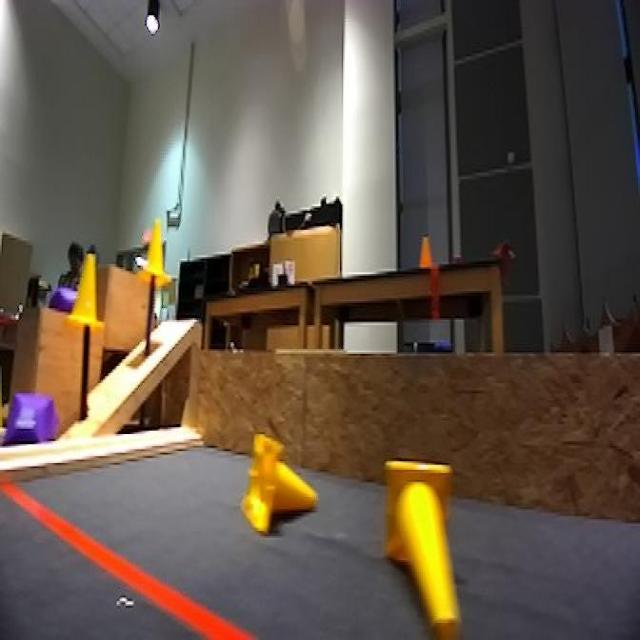frc_cone: (374, 458, 464, 640), (241, 439, 306, 536), (69, 249, 104, 337), (140, 218, 174, 298)
frc_cube: (3, 391, 54, 453), (43, 284, 83, 312)
